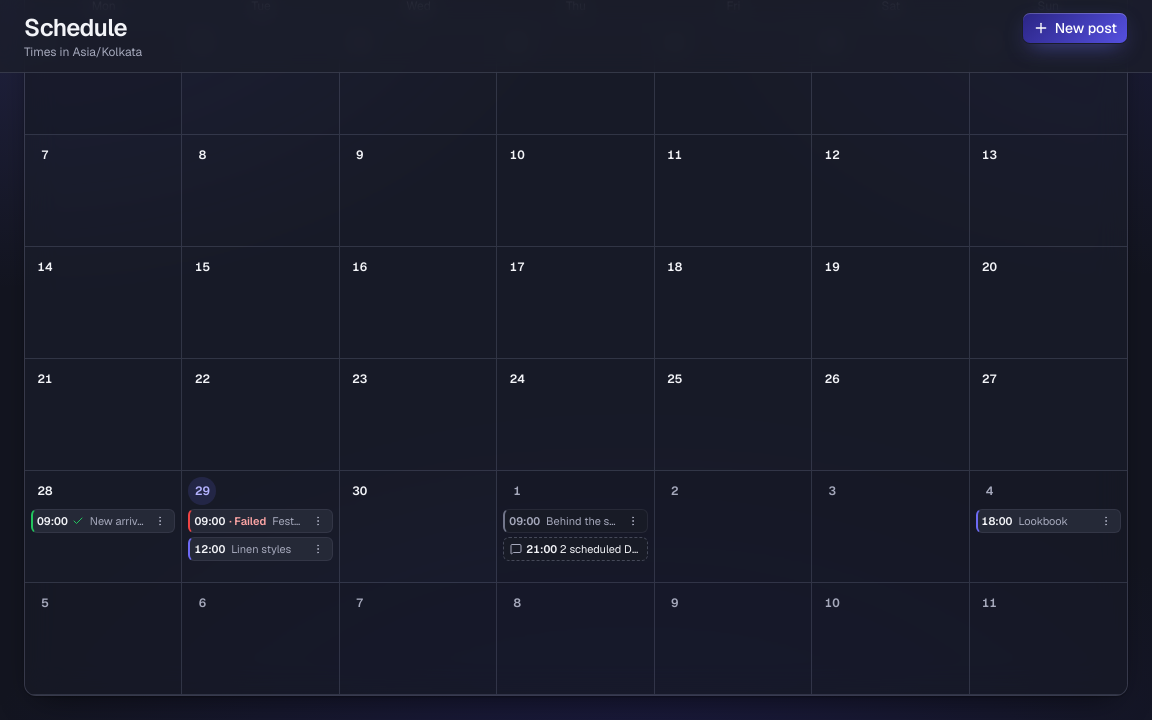
Test: Schedule page: Month (UX-SCR-04) › the day number opens that week
The image size is (1152, 720).
(page scrolled)
Click the button named "Show the week of Wed 7 Oct". click: click(360, 603)
box: [346, 589, 374, 617]
(page scrolled)
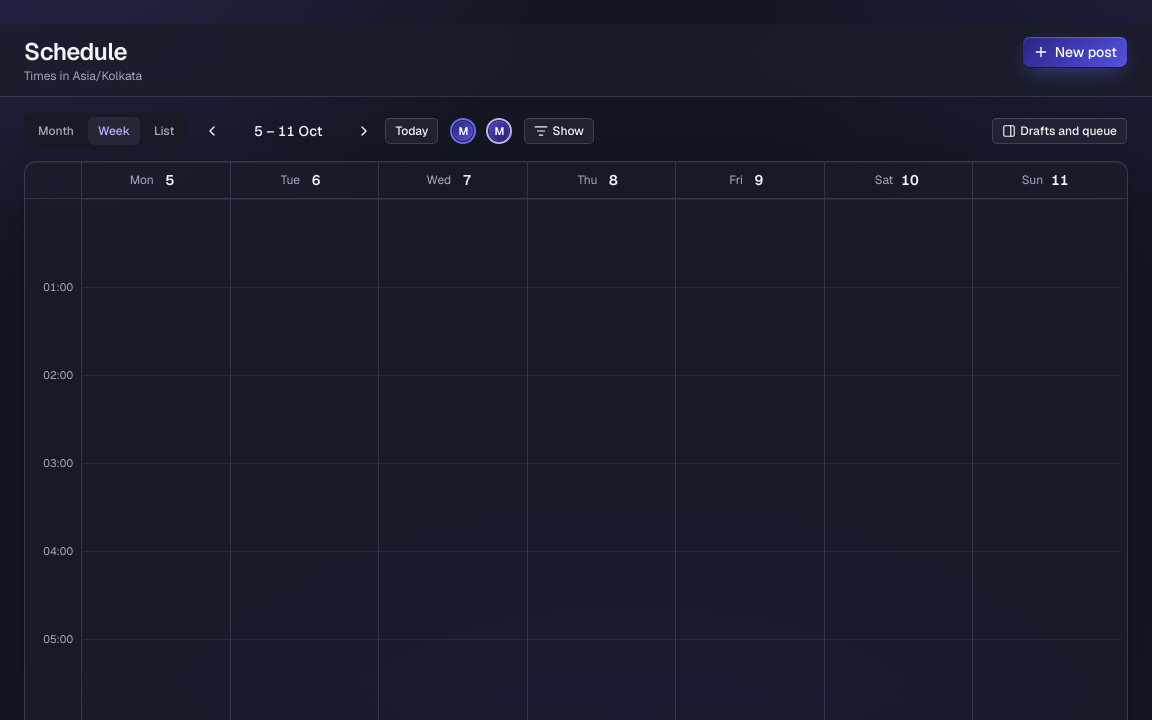
Check: the text "5 – 11 Oct" is shown, box [254, 122, 322, 140]
